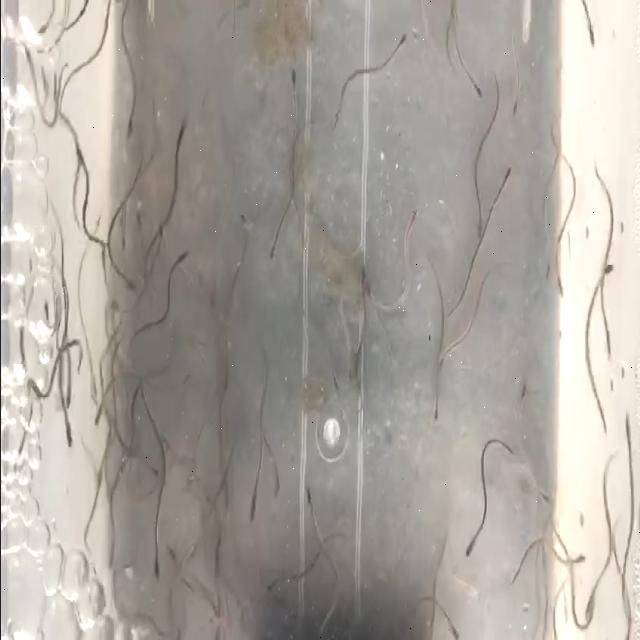active_glass_eel: (425, 388, 453, 438), (10, 34, 35, 82), (260, 228, 282, 280), (388, 8, 410, 58), (508, 362, 534, 402), (503, 156, 519, 216), (406, 194, 422, 248), (466, 208, 482, 260), (298, 475, 316, 521), (172, 105, 189, 153), (245, 488, 262, 532), (142, 463, 164, 497), (462, 531, 477, 580), (66, 138, 84, 178), (36, 288, 54, 326), (437, 338, 454, 378), (352, 260, 372, 294), (600, 247, 614, 293), (89, 400, 103, 446), (582, 596, 596, 640), (56, 412, 72, 450), (118, 121, 134, 157), (499, 103, 522, 128), (288, 40, 298, 96), (130, 196, 142, 242), (174, 250, 192, 280), (535, 484, 551, 516), (472, 70, 484, 110), (211, 530, 225, 564), (32, 16, 49, 44), (600, 320, 610, 366), (328, 368, 340, 406), (267, 474, 279, 512), (89, 365, 100, 406), (584, 28, 599, 58), (150, 546, 160, 590), (572, 545, 586, 576), (549, 276, 563, 306), (160, 539, 177, 563), (98, 363, 110, 397), (94, 458, 106, 491), (124, 274, 138, 302), (447, 614, 462, 640), (622, 414, 632, 448), (114, 231, 128, 253), (59, 384, 73, 406), (239, 208, 247, 230)
